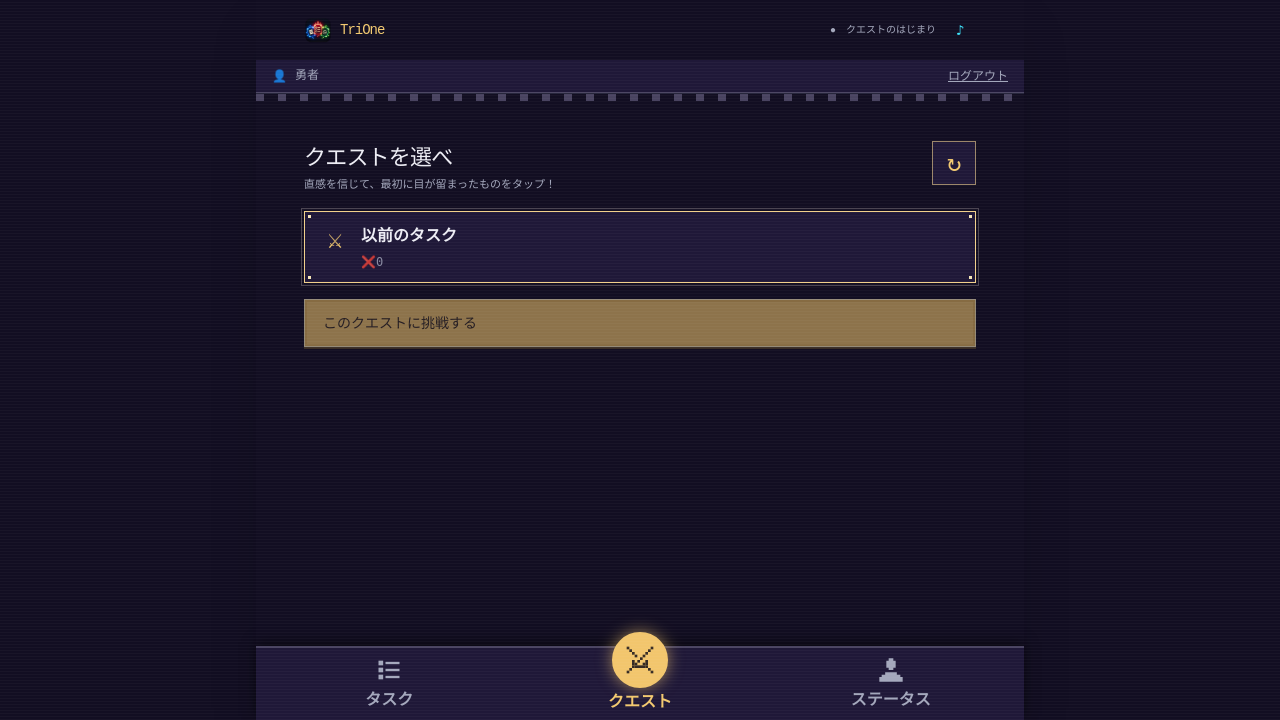
Test: タスク登録と3択の画面遷移 › 新規タスクを既存タスクの先頭に挿入し、クエストタブで候補を直接表示する
Expected: the radio button is shown, x1=304 y1=211 x2=976 y2=283
Click the button "タスク": (389,684) x1=264 y1=648 x2=515 y2=719
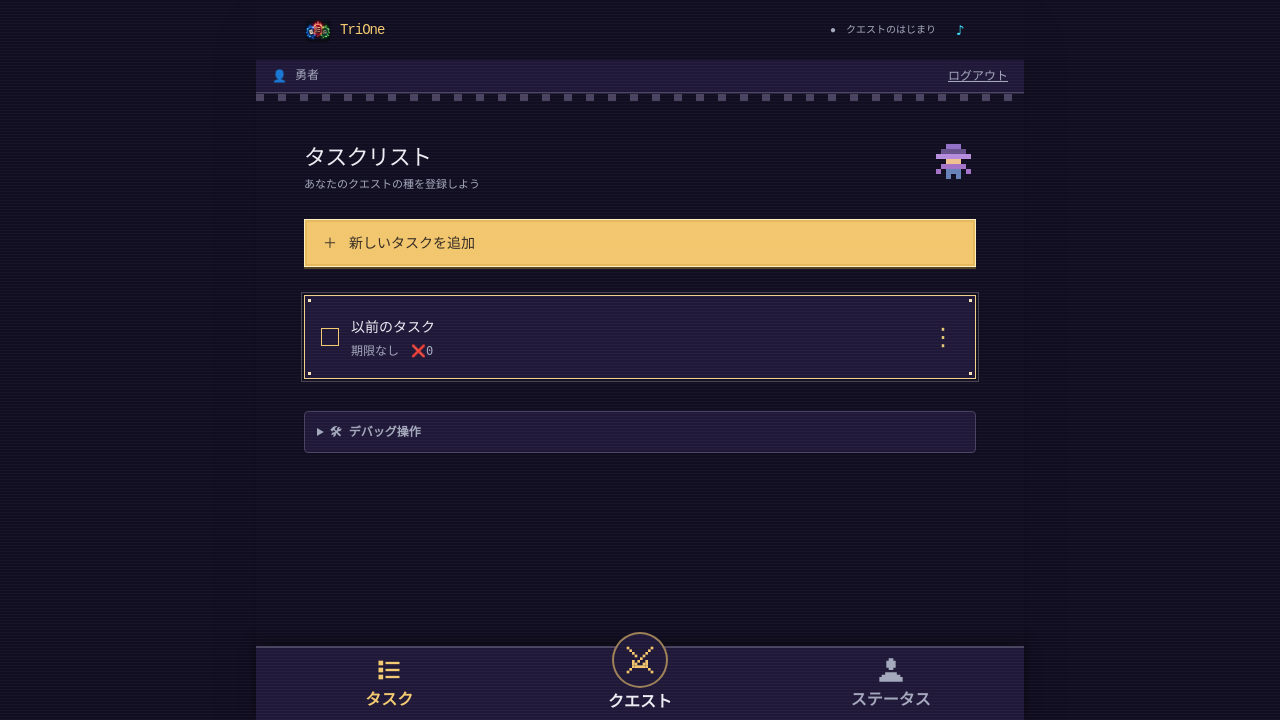
Click the button "＋新しいタスクを追加": (412,243) x1=304 y1=219 x2=976 y2=267
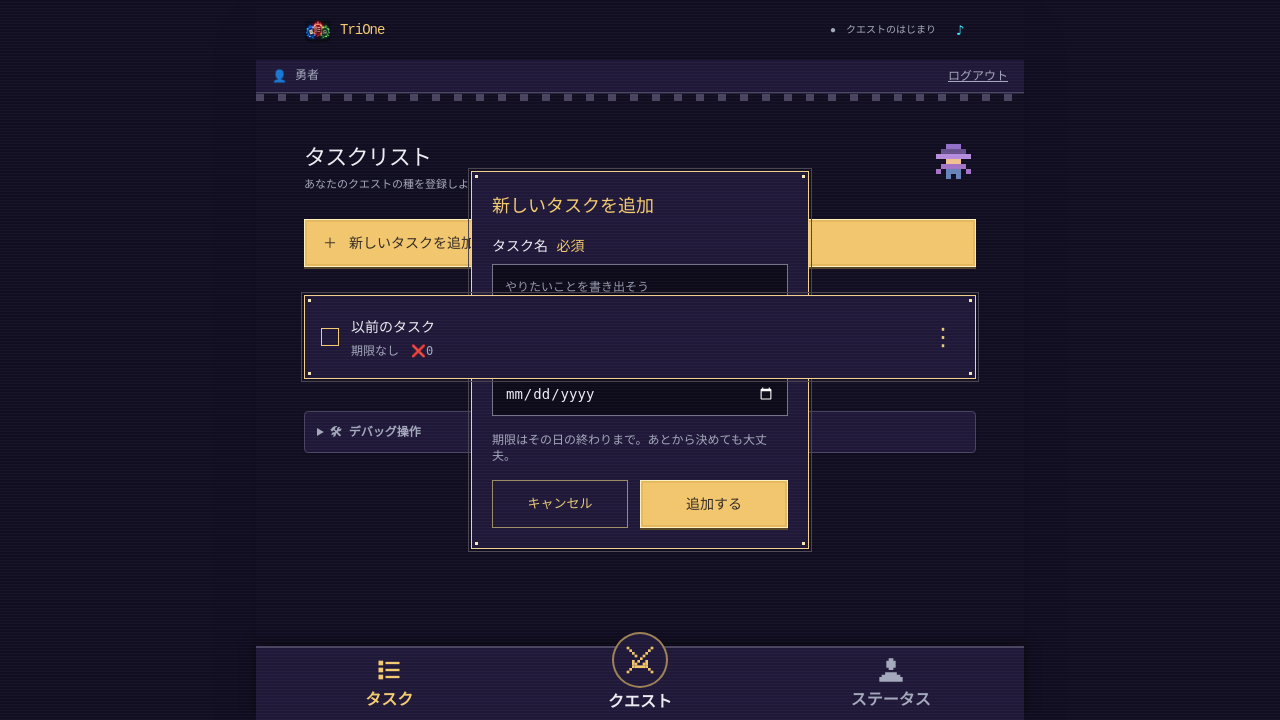
In the field labelled "タスク名 必須": (640,286) x1=492 y1=264 x2=788 y2=308, type "新しいクエスト"
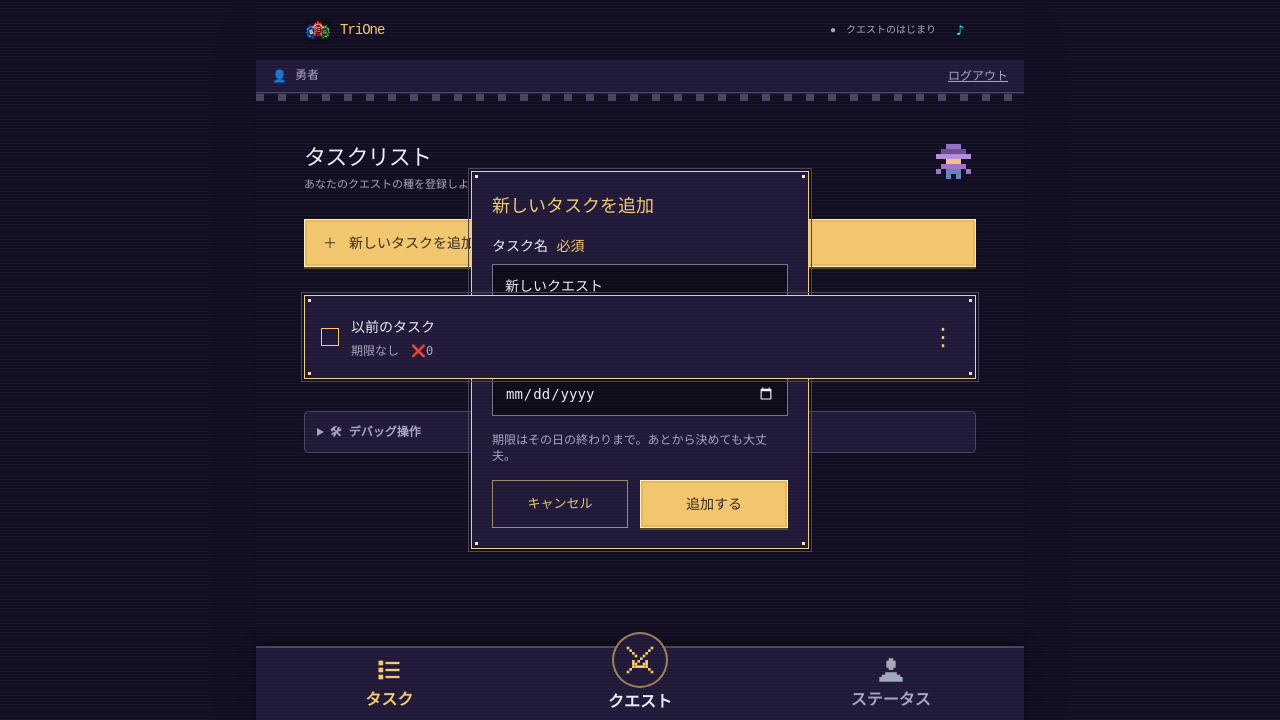
Click the button "追加する": (714,504) x1=640 y1=480 x2=788 y2=528
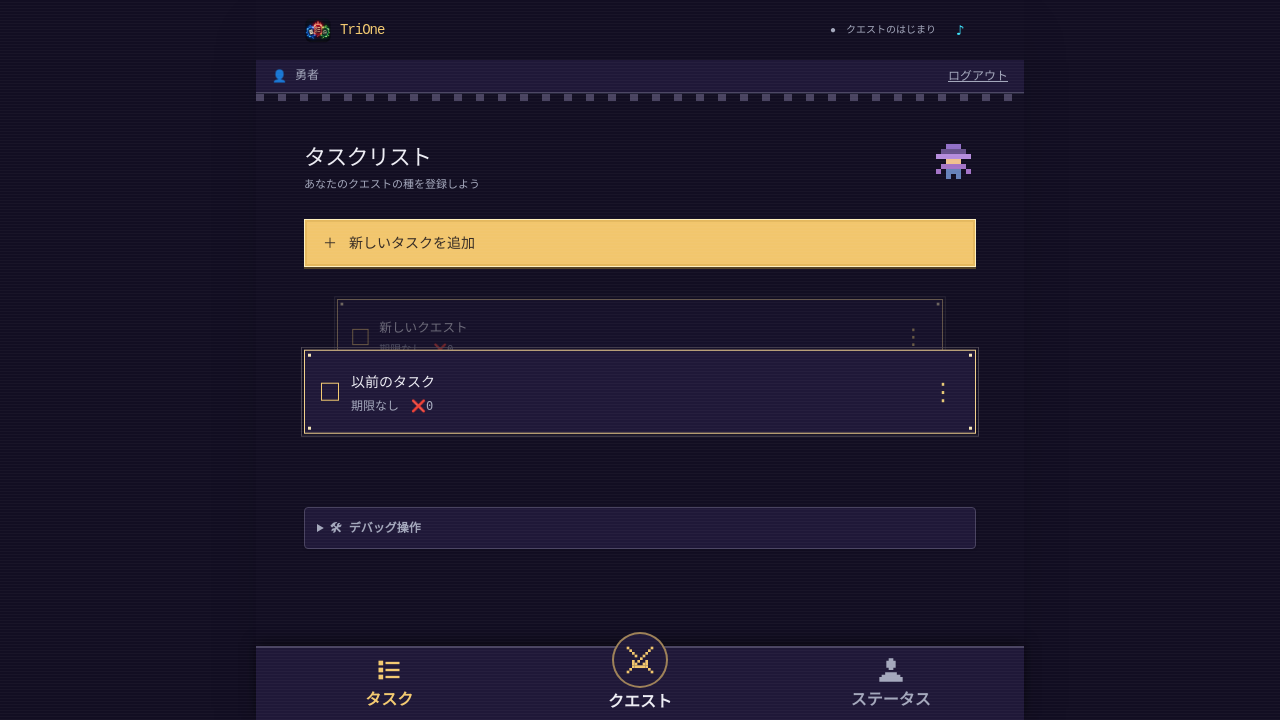
Expected: the list item shows "以前のタスク", x1=351 y1=385 x2=435 y2=401
Expected: the dialog is gone
Click the button "クエスト": (640,672) x1=515 y1=632 x2=765 y2=712
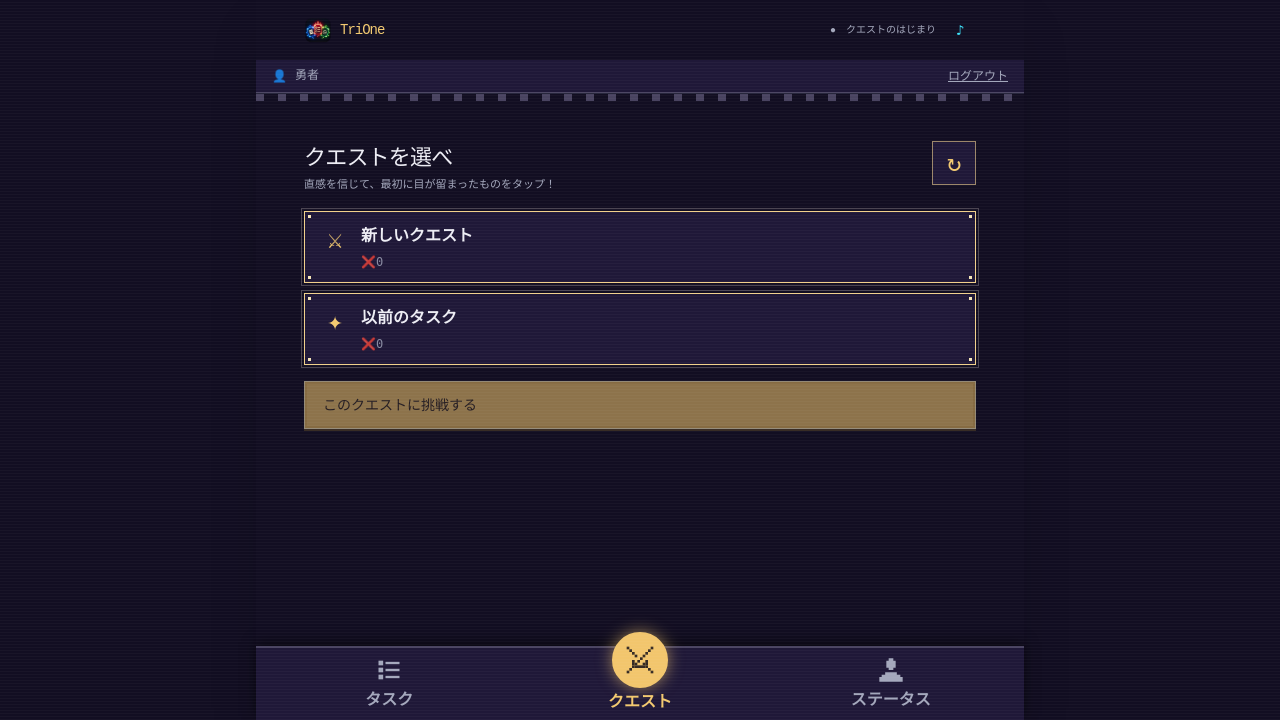
Expected: the radio button labelled "⚔ 新しいクエスト ❌0" is shown, x1=304 y1=211 x2=976 y2=283
